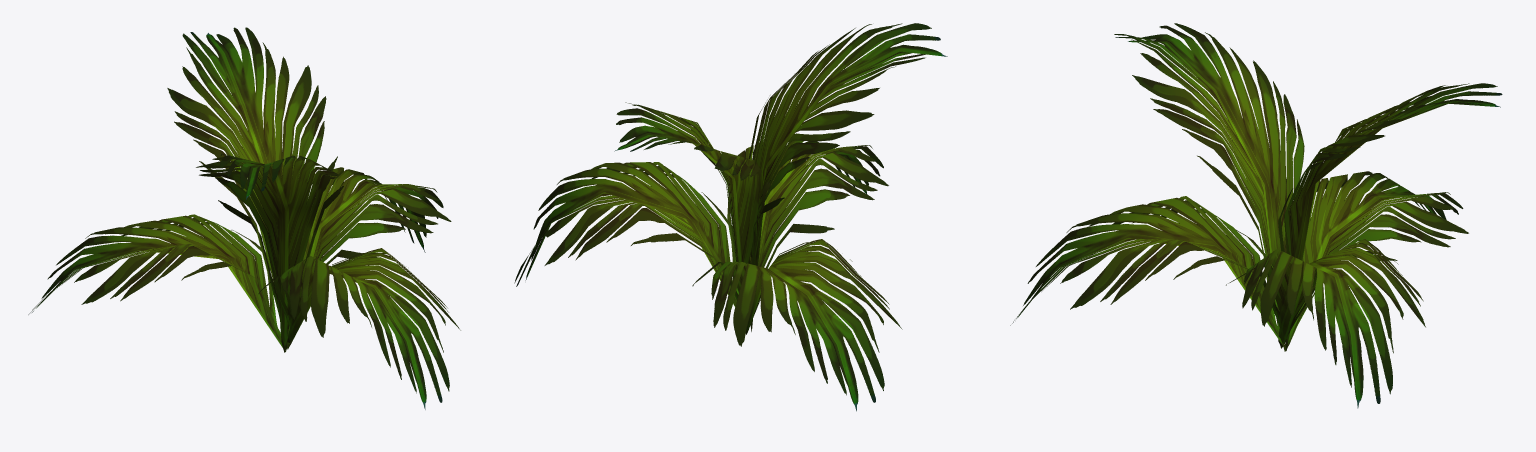
Rendered from StrangeTreeBushFoliage(SimpleMesh).fbx.
3 views of the same model, side by side, from view 1: azimuth 30°, elevation 25°; view 2: azimuth 150°, elevation 25°; view 3: azimuth 270°, elevation 25° (orthographic). The views are drawn at different scales.
Visible parts, largest first — view 1: BushExticPlant01; view 2: BushExticPlant01; view 3: BushExticPlant01.
Part boxes in pixels (x1=…): BushExticPlant01: x1=28, y1=27, x2=460, y2=409; BushExticPlant01: x1=514, y1=23, x2=947, y2=411; BushExticPlant01: x1=1010, y1=23, x2=1502, y2=408.
Size of the model in its own units: 106 by 68.62 by 117.
